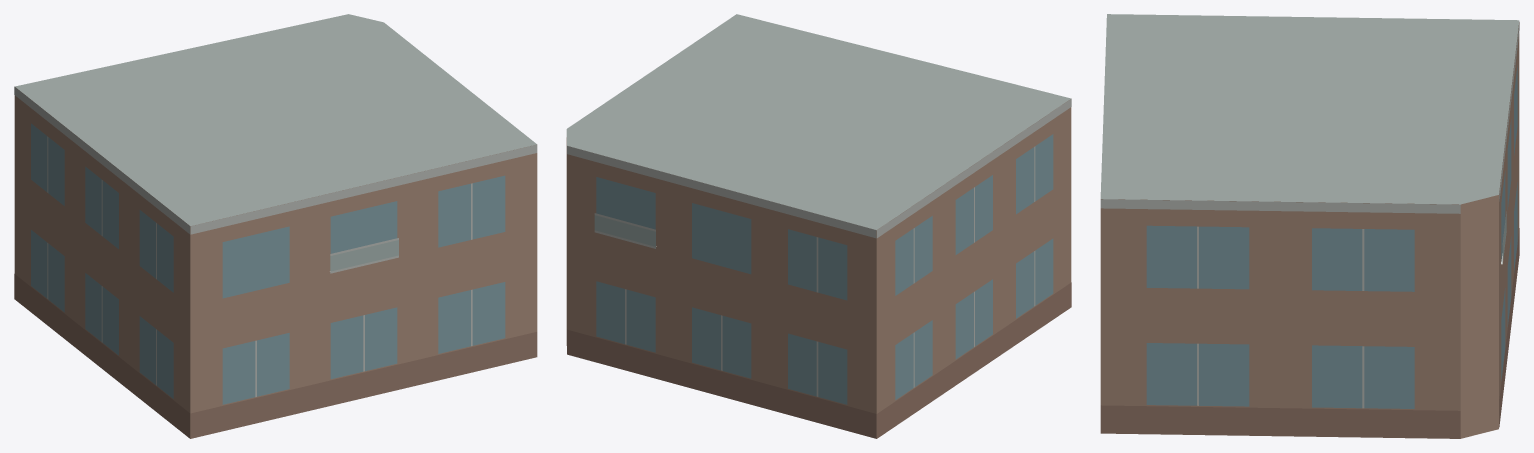
File: survey-upis-32676401.glb
3 renders of one model, left to right at view 1: azimuth 30°, elevation 25°; view 2: azimuth 150°, elevation 25°; view 3: azimuth 270°, elevation 25°, orthographic. The views are drawn at different scales.
Parts seen in each view (by area): view 1: survey-upis-32676401.tmp; view 2: survey-upis-32676401.tmp; view 3: survey-upis-32676401.tmp.
Boxes of the visible parts, box(x1,y1,x2,y2) form: survey-upis-32676401.tmp: box(14, 14, 537, 438); survey-upis-32676401.tmp: box(566, 14, 1071, 438); survey-upis-32676401.tmp: box(1100, 14, 1519, 438).
Size of the model in its own units: 10.64 by 6.1 by 9.89.
